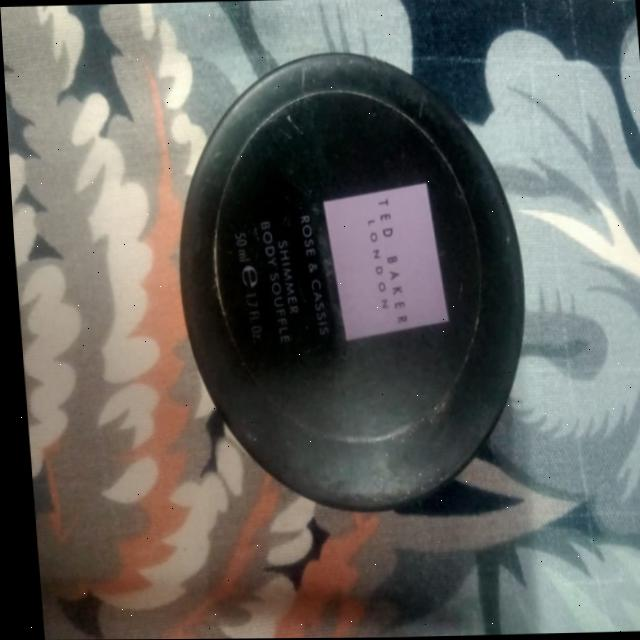powder: (146, 40, 548, 533)
